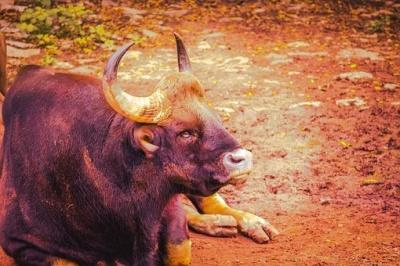buffalo: (0, 33, 278, 265)
